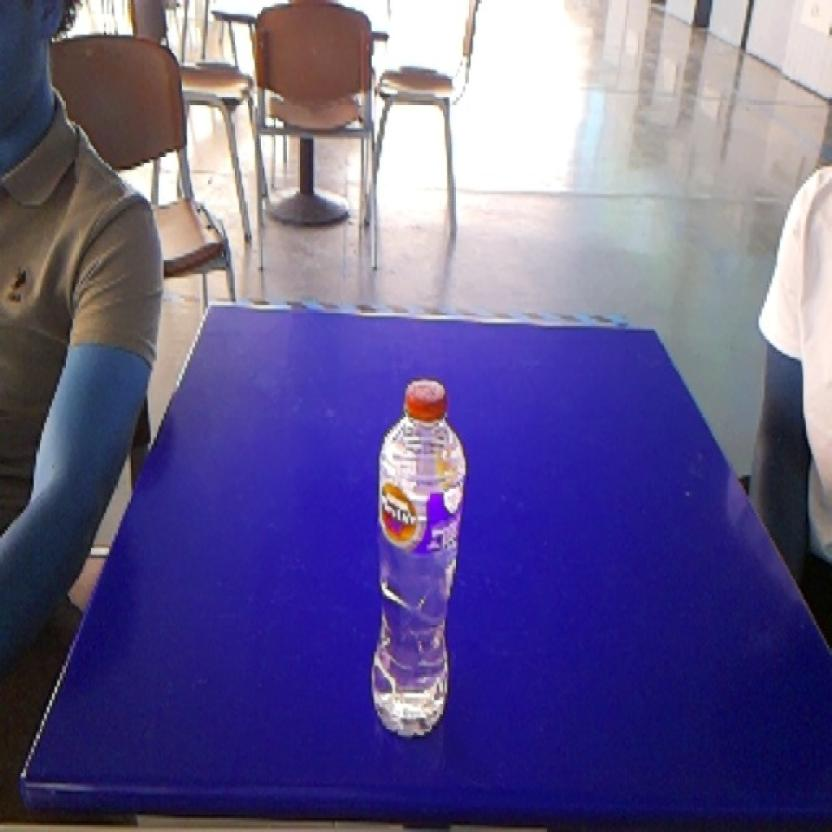good: (362, 363, 476, 757)
